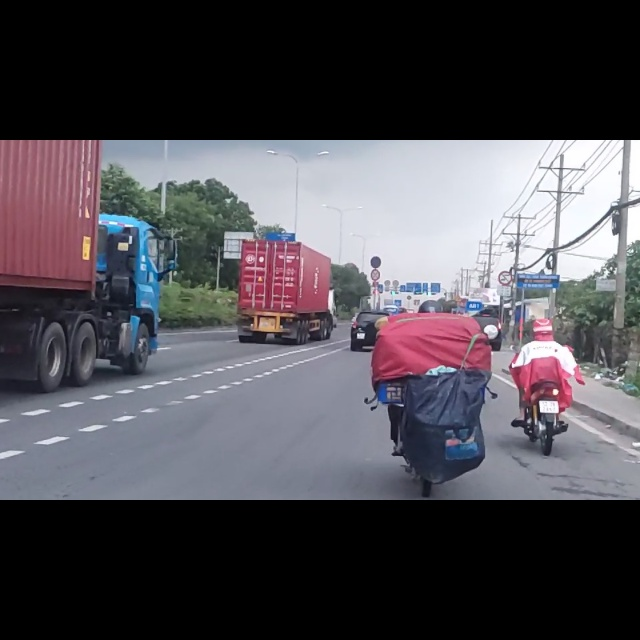bien_chi_dan: (498, 232, 512, 258), (370, 205, 382, 228)
